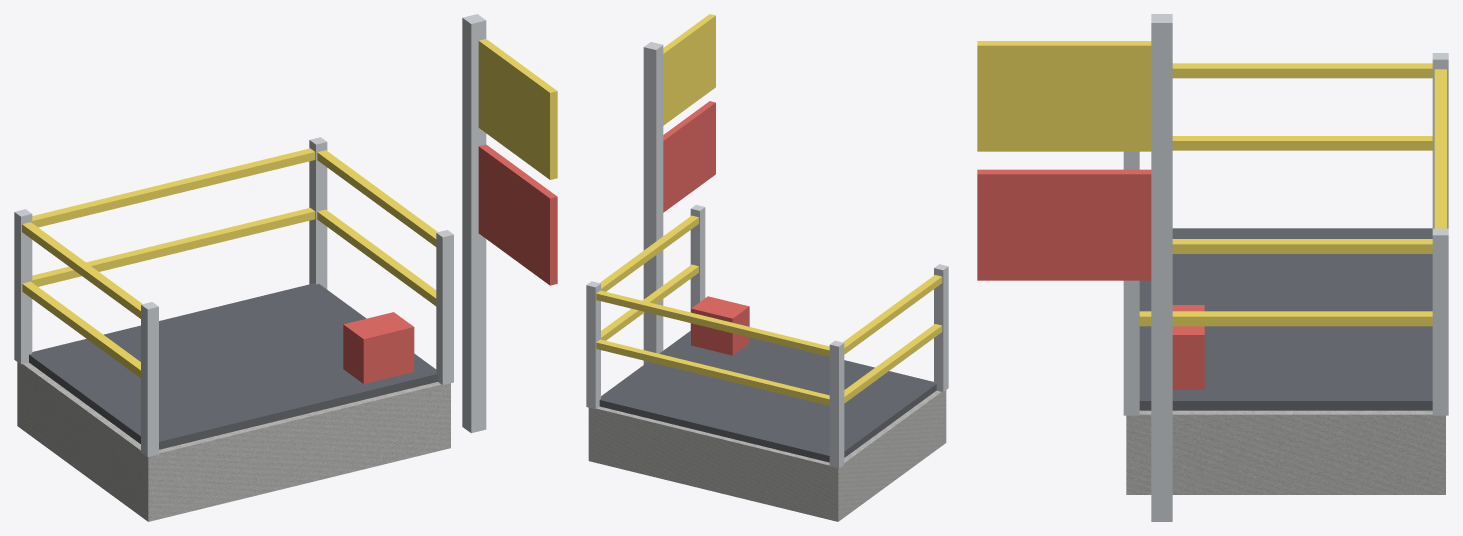
The model's file is go-kart-track-and-pit-lane-flag-post-and-marshal-post-e2bd07d6__34345.glb.
3 views of the same model, side by side, from view 1: azimuth 30°, elevation 25°; view 2: azimuth 150°, elevation 25°; view 3: azimuth 270°, elevation 25° (orthographic). The views are drawn at different scales.
Parts seen in each view (by area): view 1: flag-post-and-marshal-post-charcoal, flag-post-and-marshal-post-concrete, flag-post-and-marshal-post-canary, flag-post-and-marshal-post-steel, flag-post-and-marshal-post-red; view 2: flag-post-and-marshal-post-charcoal, flag-post-and-marshal-post-concrete, flag-post-and-marshal-post-canary, flag-post-and-marshal-post-steel, flag-post-and-marshal-post-red; view 3: flag-post-and-marshal-post-charcoal, flag-post-and-marshal-post-canary, flag-post-and-marshal-post-concrete, flag-post-and-marshal-post-red, flag-post-and-marshal-post-steel.
Boxes of the visible parts, bbox=[...] form: flag-post-and-marshal-post-charcoal: bbox=[29, 283, 437, 449]; flag-post-and-marshal-post-concrete: bbox=[17, 362, 450, 521]; flag-post-and-marshal-post-canary: bbox=[22, 39, 557, 378]; flag-post-and-marshal-post-steel: bbox=[14, 14, 486, 457]; flag-post-and-marshal-post-red: bbox=[343, 144, 557, 383]; flag-post-and-marshal-post-charcoal: bbox=[599, 330, 936, 462]; flag-post-and-marshal-post-concrete: bbox=[588, 390, 946, 521]; flag-post-and-marshal-post-canary: bbox=[596, 14, 942, 405]; flag-post-and-marshal-post-steel: bbox=[586, 42, 948, 468]; flag-post-and-marshal-post-red: bbox=[663, 101, 749, 355]; flag-post-and-marshal-post-charcoal: bbox=[1139, 228, 1432, 410]; flag-post-and-marshal-post-canary: bbox=[977, 41, 1446, 326]; flag-post-and-marshal-post-concrete: bbox=[1126, 410, 1445, 494]; flag-post-and-marshal-post-red: bbox=[977, 169, 1204, 389]; flag-post-and-marshal-post-steel: bbox=[1123, 14, 1448, 521].
Bounding box in the file's own units: 2.78 × 3.1 × 2.66.
5 materials, 1 textured.
